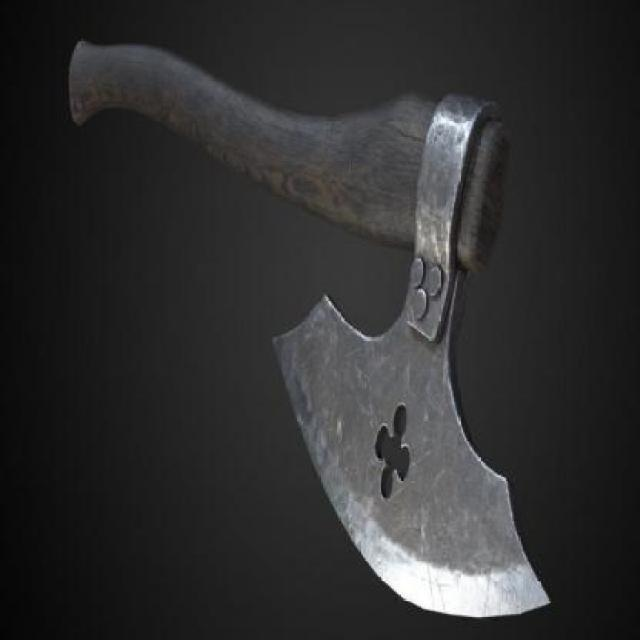weapon: (66, 36, 552, 619)
